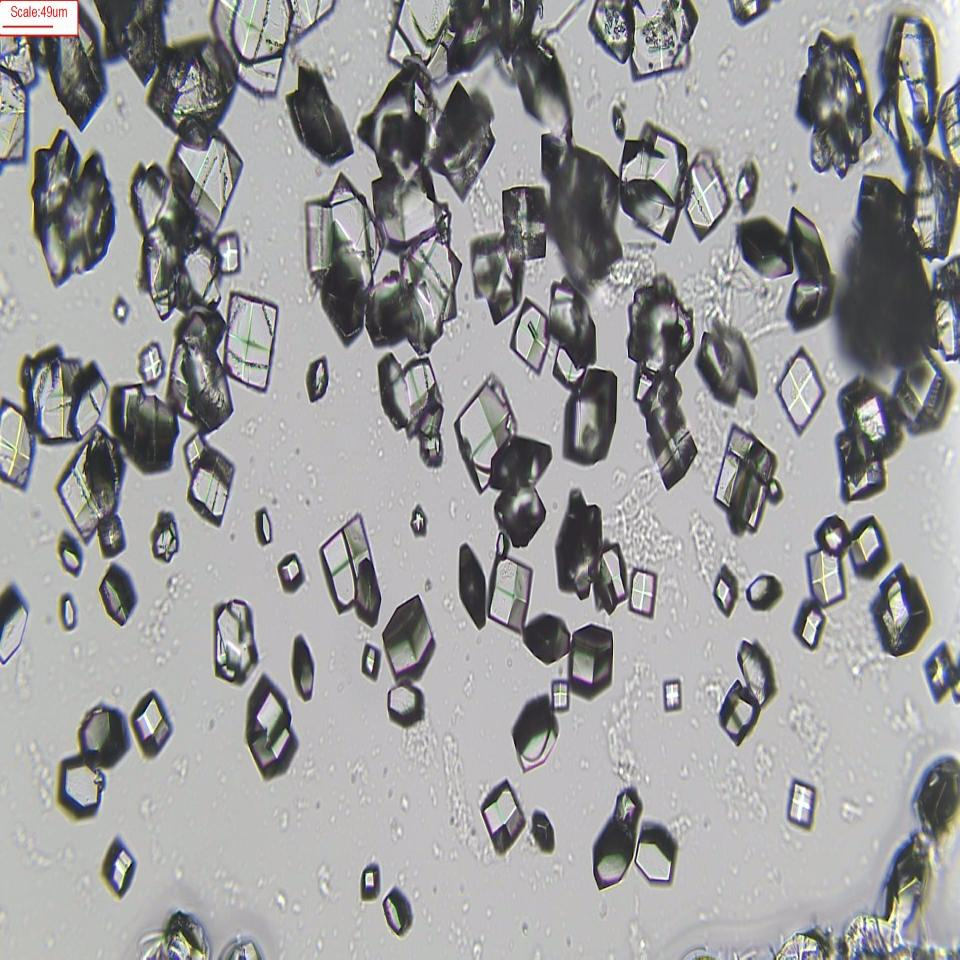crystal: (26, 135, 116, 280), (282, 56, 363, 184), (148, 44, 243, 136), (433, 76, 502, 201), (619, 124, 682, 247), (714, 422, 781, 534), (452, 373, 513, 492), (171, 129, 240, 233), (322, 509, 379, 612), (244, 674, 296, 779), (564, 368, 618, 467), (226, 290, 278, 390), (382, 594, 434, 683), (774, 347, 827, 434), (496, 180, 548, 268), (875, 569, 927, 656), (184, 436, 234, 524), (586, 820, 639, 903), (737, 213, 796, 283), (212, 598, 259, 685), (511, 694, 559, 778), (684, 148, 729, 235), (74, 702, 131, 770), (54, 754, 104, 823), (94, 558, 143, 628), (479, 779, 525, 853), (492, 553, 533, 636), (569, 623, 614, 698), (801, 540, 850, 608), (457, 537, 491, 634), (0, 399, 34, 488), (588, 1, 635, 65), (718, 680, 760, 748), (512, 300, 551, 370), (0, 582, 30, 670), (738, 644, 777, 710), (381, 679, 431, 725), (637, 828, 675, 886), (131, 695, 170, 751), (290, 629, 319, 700), (100, 841, 137, 894), (852, 514, 885, 568), (530, 802, 561, 857), (628, 567, 659, 620), (216, 229, 250, 277), (787, 777, 817, 830), (925, 643, 954, 697), (745, 571, 786, 608), (151, 514, 179, 563), (712, 567, 738, 619), (813, 518, 851, 552), (735, 160, 758, 210), (305, 356, 329, 403), (56, 583, 81, 628), (606, 96, 629, 144), (138, 343, 164, 385), (383, 891, 407, 934), (55, 534, 82, 572), (276, 552, 302, 591), (360, 642, 383, 682), (798, 602, 819, 644), (550, 672, 569, 713), (254, 507, 273, 547), (663, 676, 683, 712), (492, 526, 510, 560), (360, 866, 379, 898), (410, 504, 427, 537), (112, 295, 130, 326)
not_crystal: (832, 356, 955, 505), (366, 87, 437, 241), (298, 185, 378, 311), (376, 349, 449, 462), (26, 349, 106, 448), (59, 432, 126, 549), (109, 382, 175, 475)
